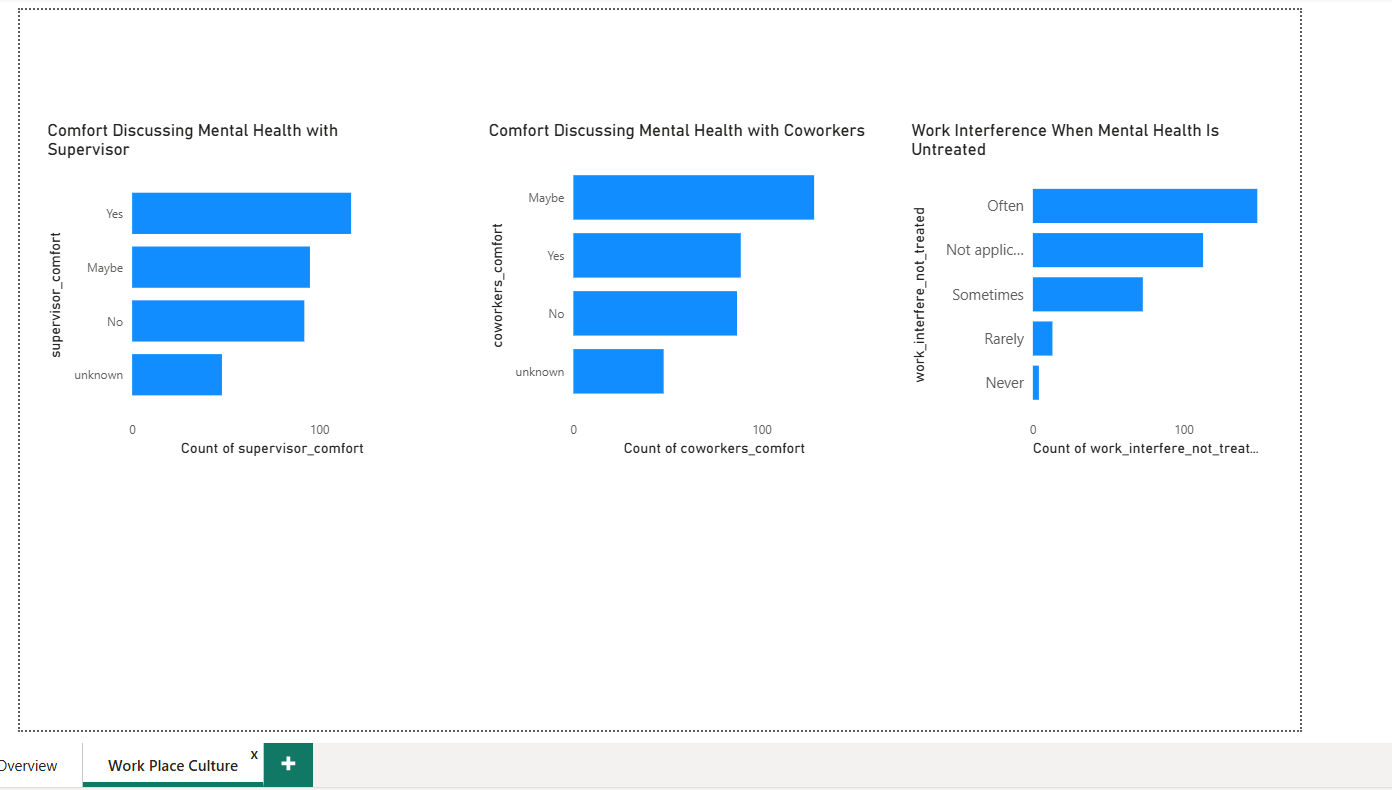

This screenshot's page, from the dashboard's own definition file:
{"tool":"powerbi","page":{"name":"Work Place Culture","canvas":[1280,720],"ordinal":1},"visuals":[{"type":"barChart","title":"Comfort Discussing Mental Health with Supervisor","fields":{"Category":["data.supervisor_comfort"],"Y":["CountNonNull(data.supervisor_comfort)"]},"box":[22,109.8,385.6,341.7],"z":0},{"type":"barChart","title":"Comfort Discussing Mental Health with Coworkers","fields":{"Category":["data.coworkers_comfort"],"Y":["CountNonNull(data.coworkers_comfort)"]},"box":[463.8,109.8,387,341.7],"z":1000},{"type":"barChart","title":"Work Interference When Mental Health Is Untreated","fields":{"Category":["data.work_interfere_not_treated"],"Y":["CountNonNull(data.work_interfere_not_treated)"]},"box":[886.5,109.8,367.8,341.7],"z":2000}]}

Visuals, with their boxes on the page's 1280x720 design canvas (x1, y1, x2, y2). These are canvas units, not pixel positions in the 1392x790 screenshot, which may show the page scaled, cropped or inside an application window:
"Comfort Discussing Mental Health with Supervisor" barChart: region(22, 110, 408, 452)
"Comfort Discussing Mental Health with Coworkers" barChart: region(464, 110, 851, 452)
"Work Interference When Mental Health Is Untreated" barChart: region(886, 110, 1254, 452)
